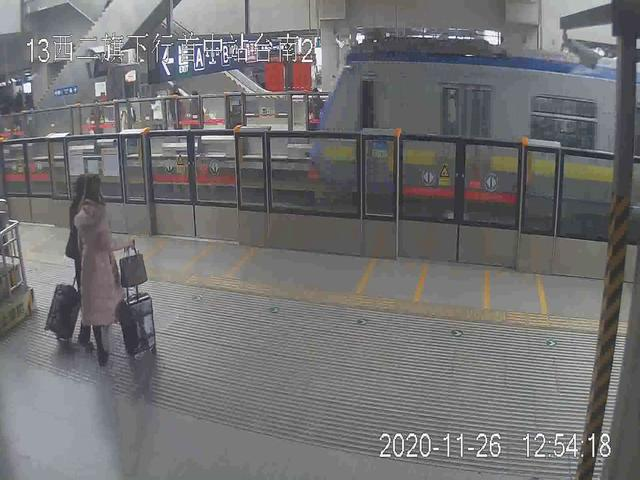person: (76, 177, 122, 360)
